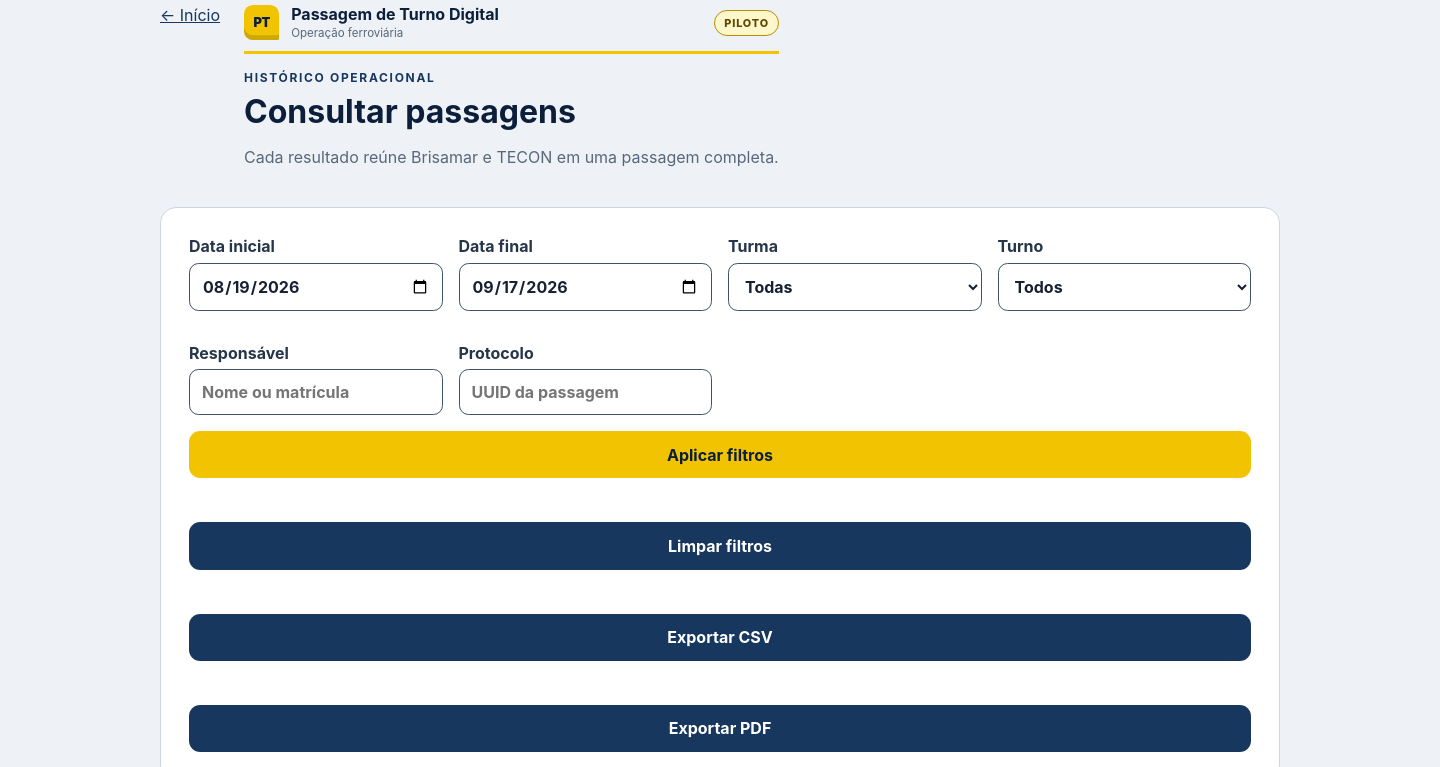
it: consulta de passagens › informa bloqueio de perfil sem encerrar a sessão
The image size is (1440, 767).
Click the button "Exportar PDF" at (720, 728), box [189,705,1251,752]
(page scrolled)
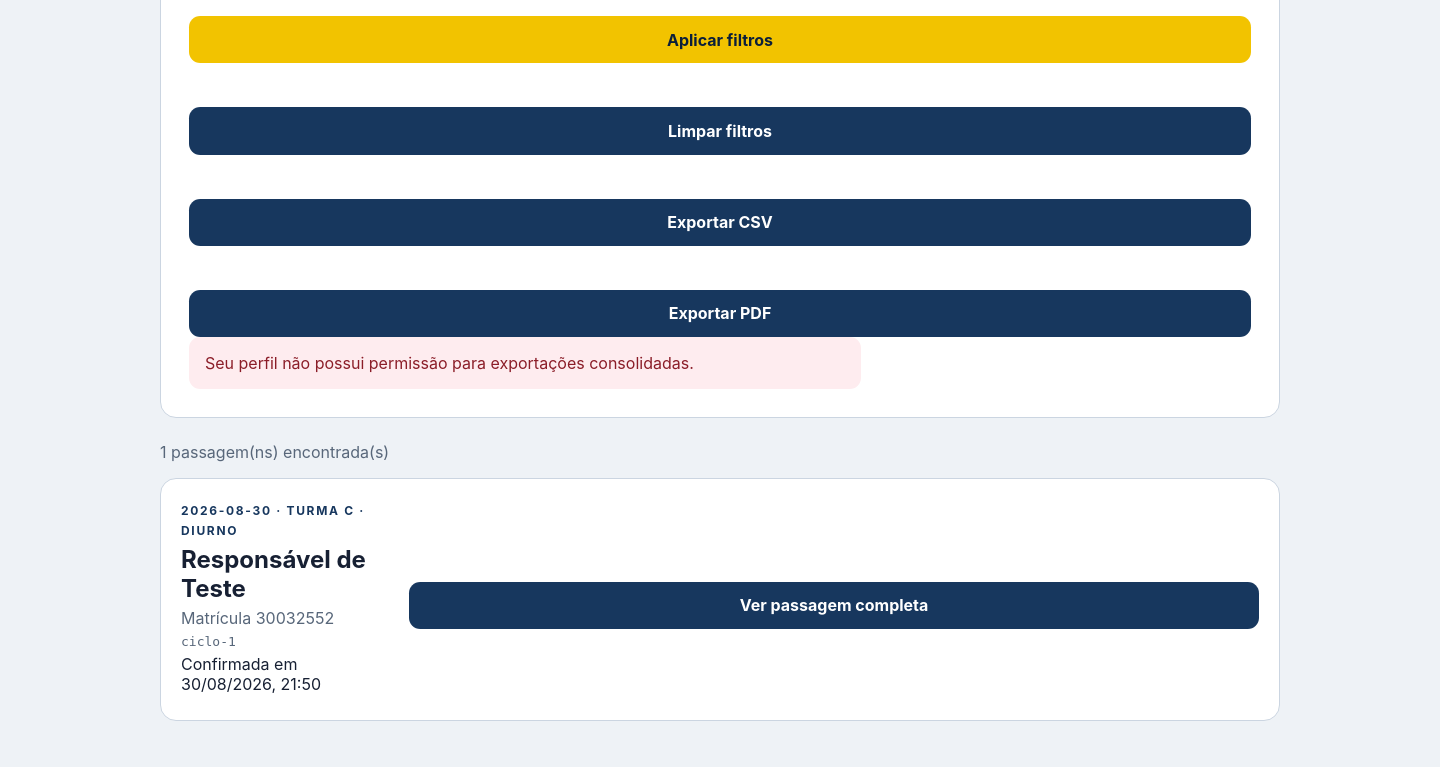
Expected: the text "Seu perfil não possui permissão para exportações consolidadas." is shown, [189,337,861,389]
